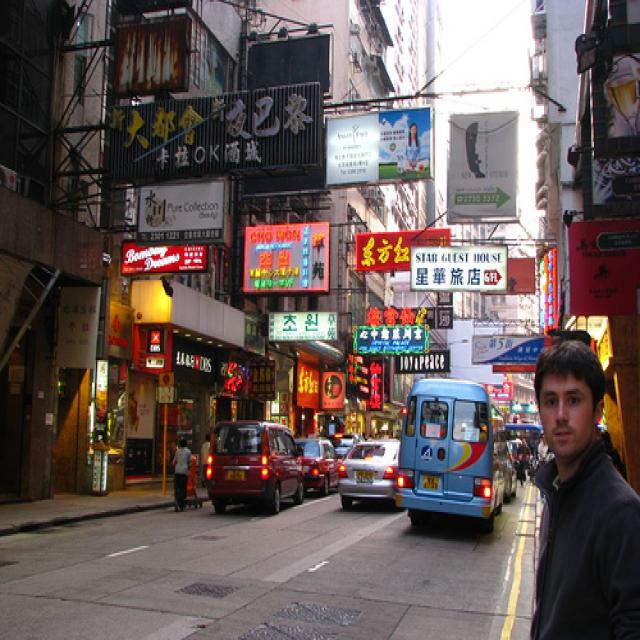Vehicle: (395, 380, 506, 531), (206, 421, 305, 515), (338, 439, 406, 513), (295, 437, 343, 498), (333, 439, 358, 461)
